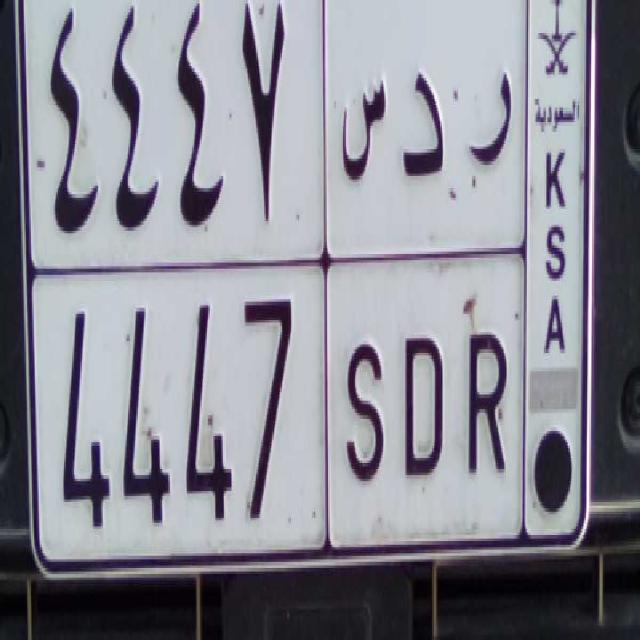license_plate: (34, 263, 525, 572)
